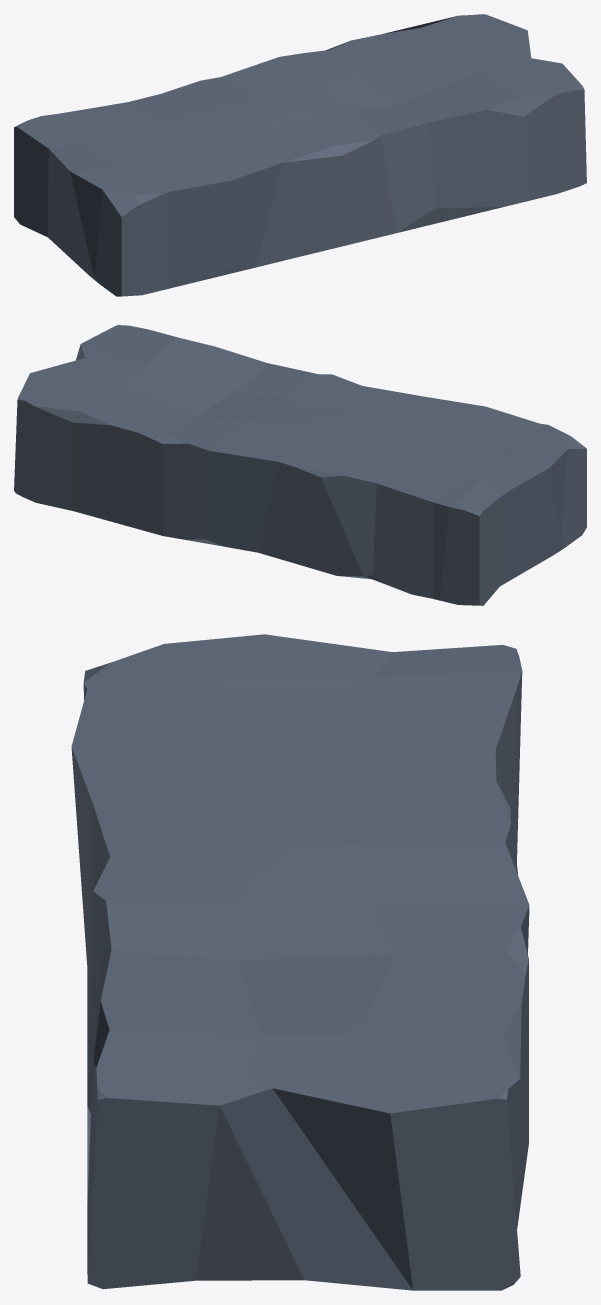
Rendered from StonePlatformNoGrass(10x4x2).fbx.
3 views of the same model, one above another, from view 1: azimuth 30°, elevation 25°; view 2: azimuth 150°, elevation 25°; view 3: azimuth 270°, elevation 25° (orthographic). The views are drawn at different scales.
Visible parts, largest first — view 1: rock; view 2: rock; view 3: rock.
Boxes of the visible parts, x1=… form: rock: x1=14, y1=14, x2=586, y2=296; rock: x1=14, y1=325, x2=586, y2=605; rock: x1=71, y1=634, x2=529, y2=1290.
Bounding box in the file's own units: 1051 × 205 × 427.
